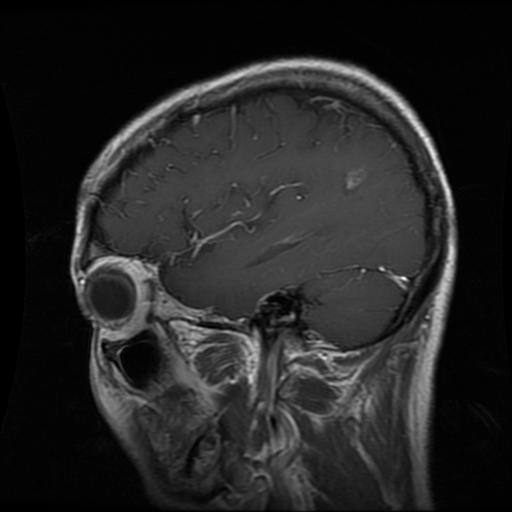Gliomia_tumour: (346, 166, 366, 190)
